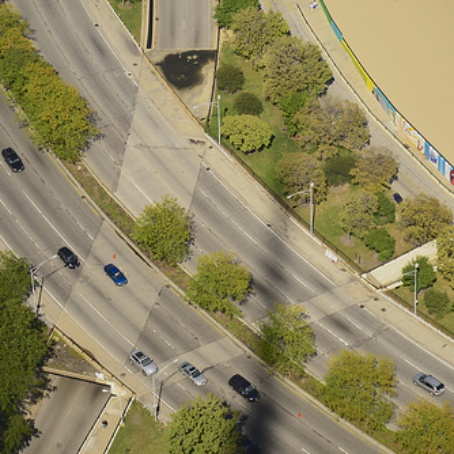car: (227, 372, 266, 408), (411, 363, 450, 399), (100, 261, 128, 287), (52, 245, 80, 271), (177, 361, 205, 387), (129, 348, 157, 374), (1, 146, 28, 172)
street: (1, 1, 447, 450)
vegetation: (229, 21, 454, 311)
